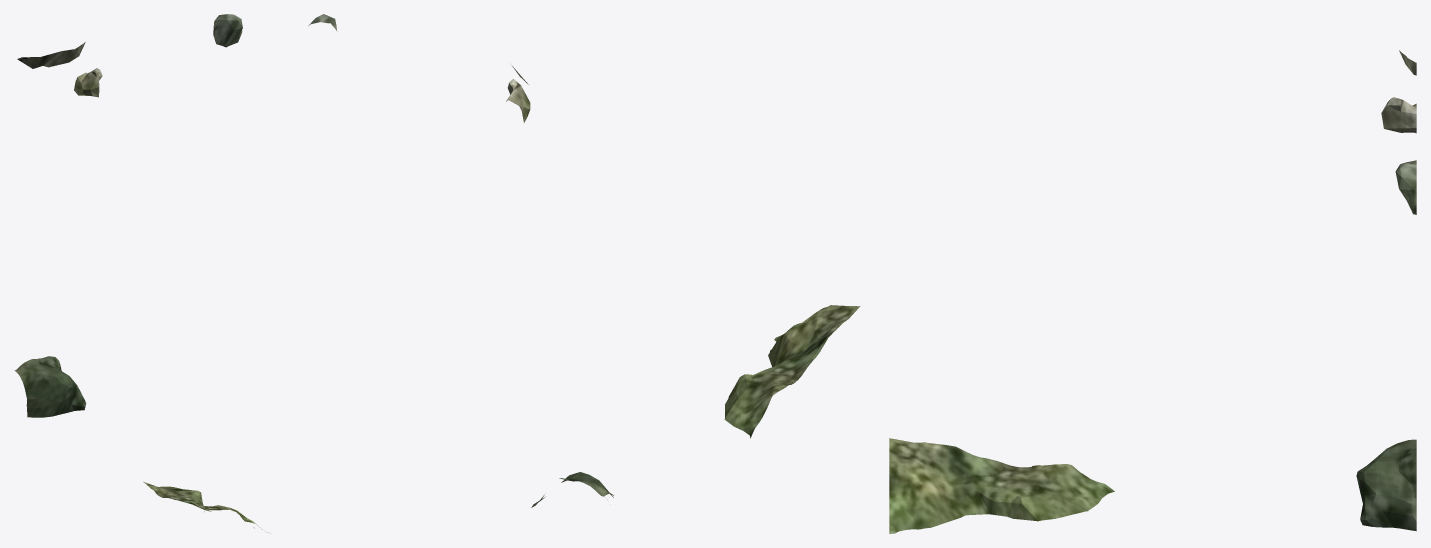
3 views of the same model, side by side, from view 1: azimuth 30°, elevation 25°; view 2: azimuth 150°, elevation 25°; view 3: azimuth 270°, elevation 25° (orthographic). The views are drawn at different scales.
Size of the model in its own units: 4.01 by 5.9 by 5.9.
1 material, 1 textured.
